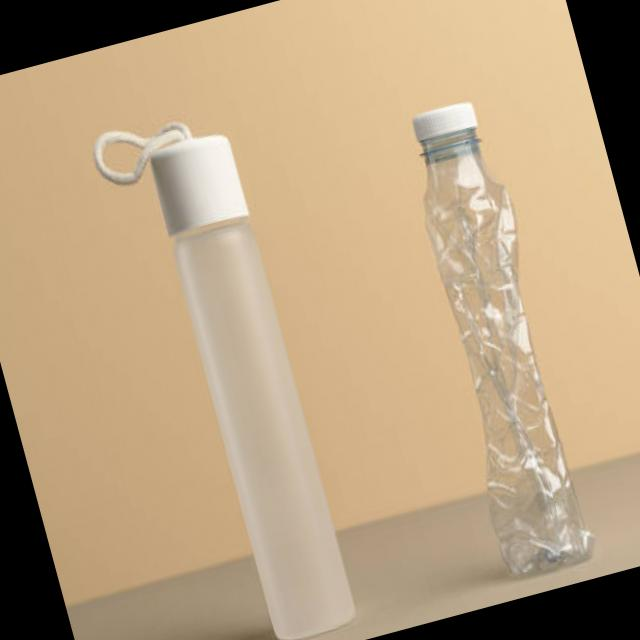glass: (150, 135, 373, 636)
plastic: (413, 106, 601, 570)
